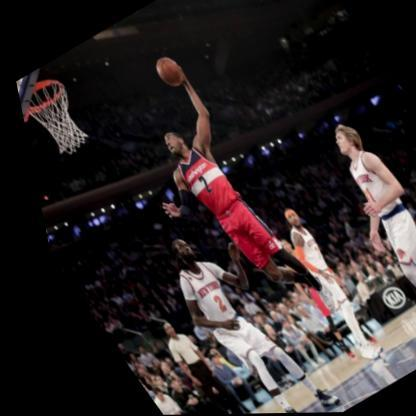basketball: (146, 52, 187, 92)
rim: (11, 71, 97, 158)
